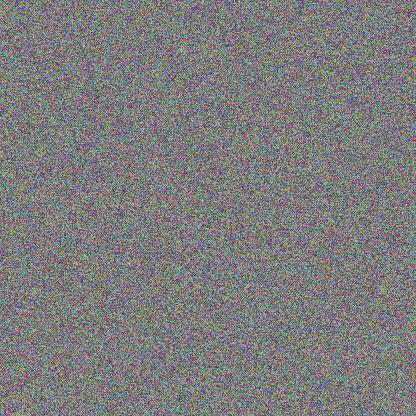empty: (238, 69, 299, 135)
